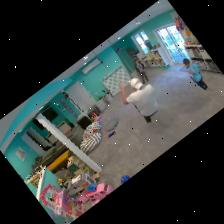person: (119, 79, 156, 123), (183, 59, 207, 91), (134, 60, 148, 84)
